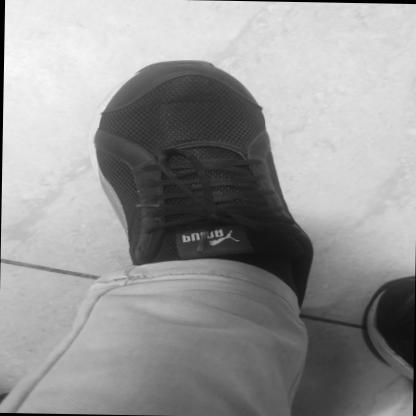ankle: (274, 256, 283, 259)
heel: (300, 299, 303, 301)
pinky: (113, 105, 117, 107)
right_foot: (84, 58, 318, 311)
toe: (236, 91, 243, 94)
